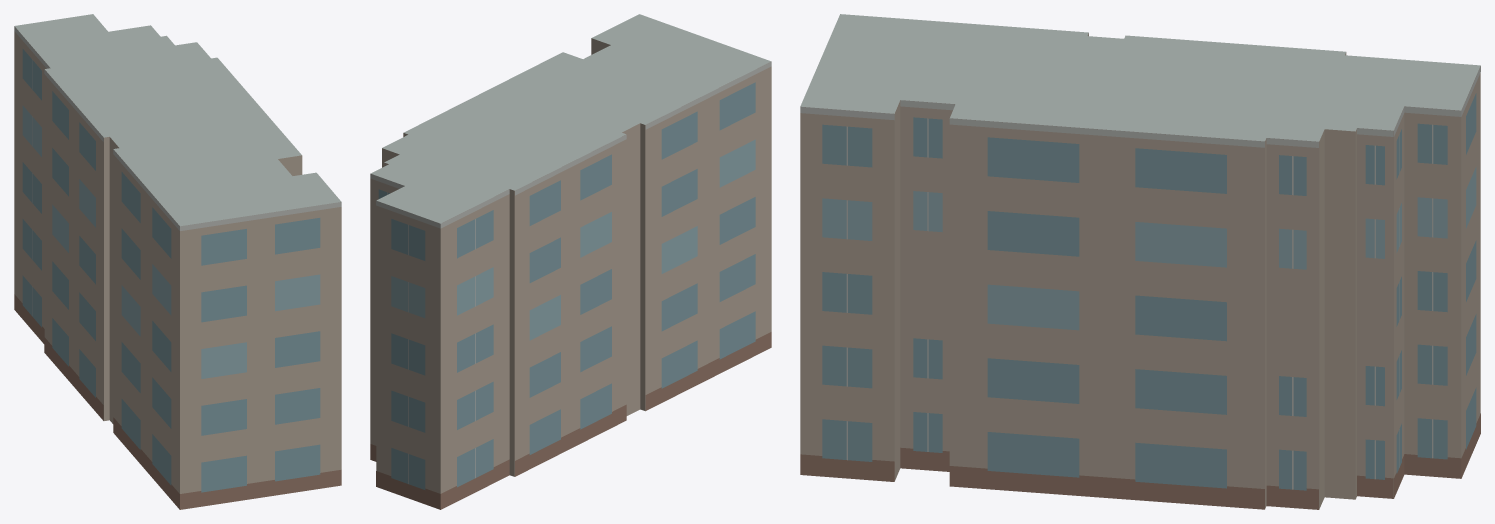
The model's file is survey-upis-32697964.glb.
The picture shows the model from 3 angles, left to right: view 1: azimuth 30°, elevation 25°; view 2: azimuth 150°, elevation 25°; view 3: azimuth 270°, elevation 25°; orthographic projection. The views are drawn at different scales.
Visible parts, largest first — view 1: survey-upis-32697964.tmp; view 2: survey-upis-32697964.tmp; view 3: survey-upis-32697964.tmp.
Part boxes in pixels (left/top/right/bottom): survey-upis-32697964.tmp: left=14, top=14, right=341, bottom=509; survey-upis-32697964.tmp: left=370, top=14, right=771, bottom=509; survey-upis-32697964.tmp: left=800, top=14, right=1480, bottom=509.
Size of the model in its own units: 10.5 by 14.1 by 23.63.
